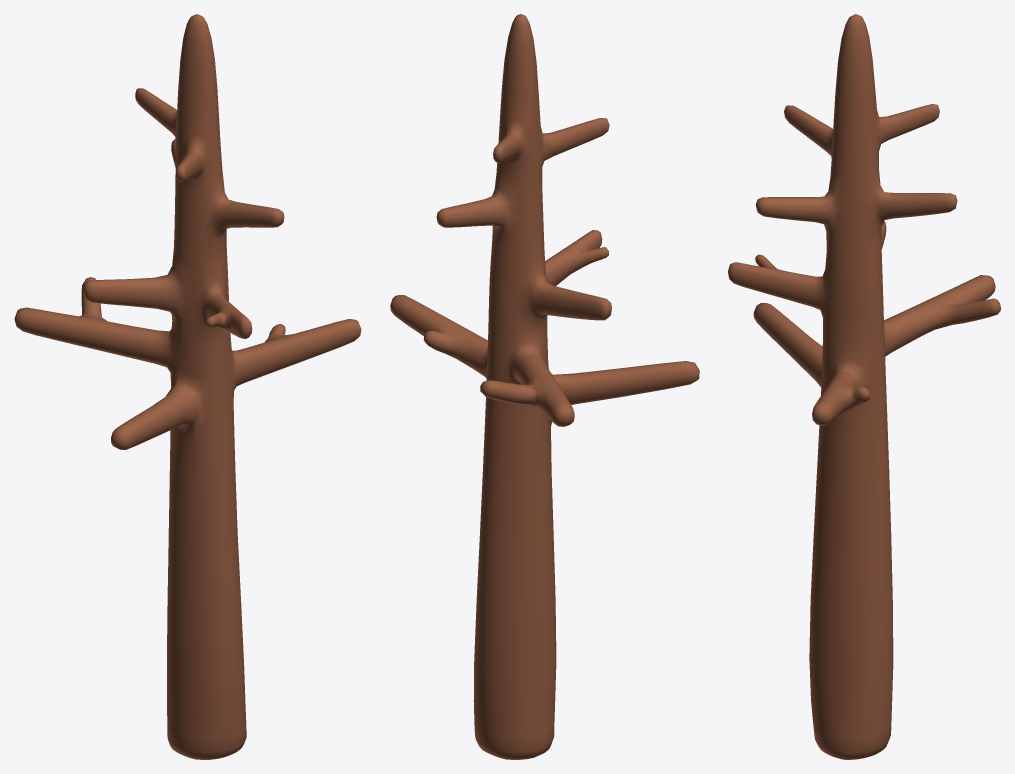
The model's file is DeadTrunk_A_03.fbx.
The picture shows the model from 3 angles, left to right: view 1: azimuth 30°, elevation 25°; view 2: azimuth 150°, elevation 25°; view 3: azimuth 270°, elevation 25°; orthographic projection.
Visible parts, largest first — view 1: DeadTrunk_A_03_LOD0; view 2: DeadTrunk_A_03_LOD0; view 3: DeadTrunk_A_03_LOD0.
Part boxes in pixels (x1=…): DeadTrunk_A_03_LOD0: x1=14, y1=14, x2=361, y2=759; DeadTrunk_A_03_LOD0: x1=390, y1=14, x2=699, y2=759; DeadTrunk_A_03_LOD0: x1=728, y1=14, x2=1000, y2=759.
Size of what is drawn, in the model's own units: 452 by 1156 by 390.
